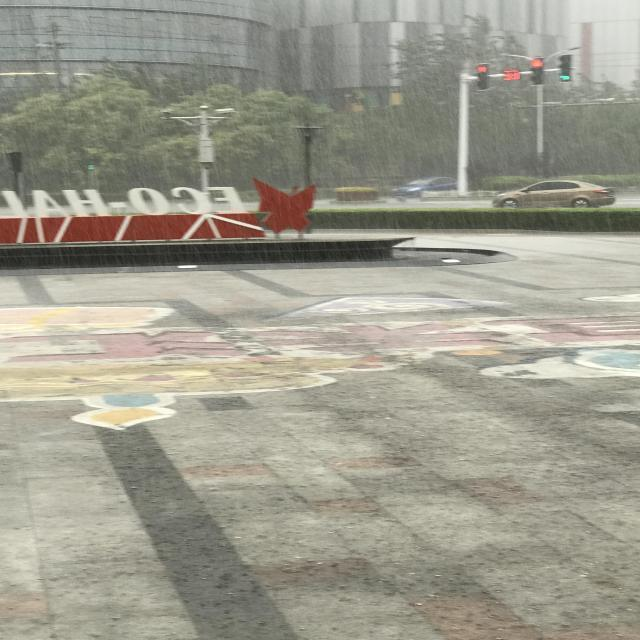car: (180, 22, 210, 148), (176, 176, 196, 246)
